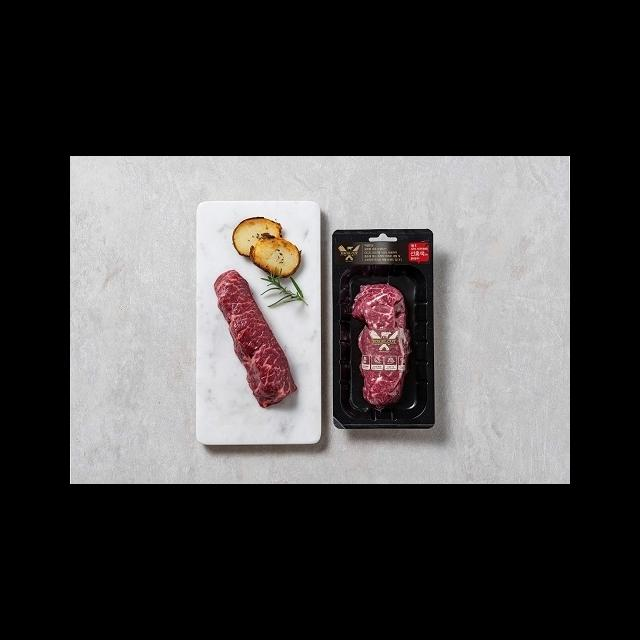beef: (345, 278, 427, 416), (211, 279, 291, 403)
